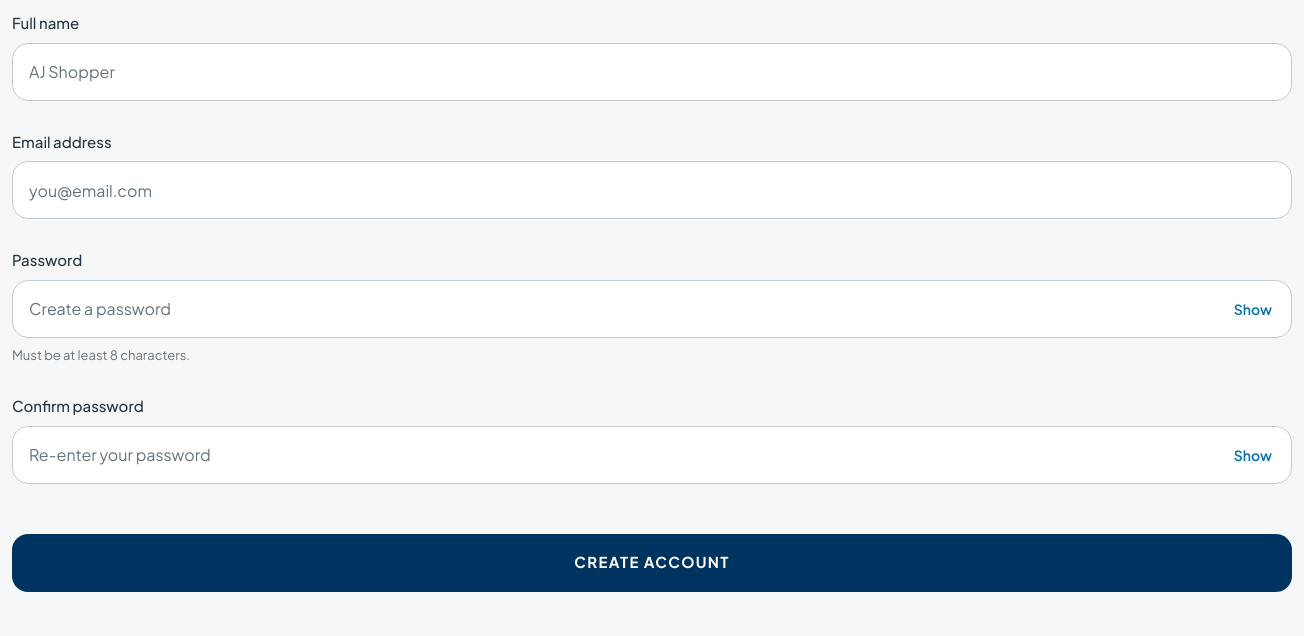
Test case: SignupForm — fields and validation › validates on blur rather than only on submit
In the field labelled "Email address": (652, 190) [12,161,1292,219], type "nope"
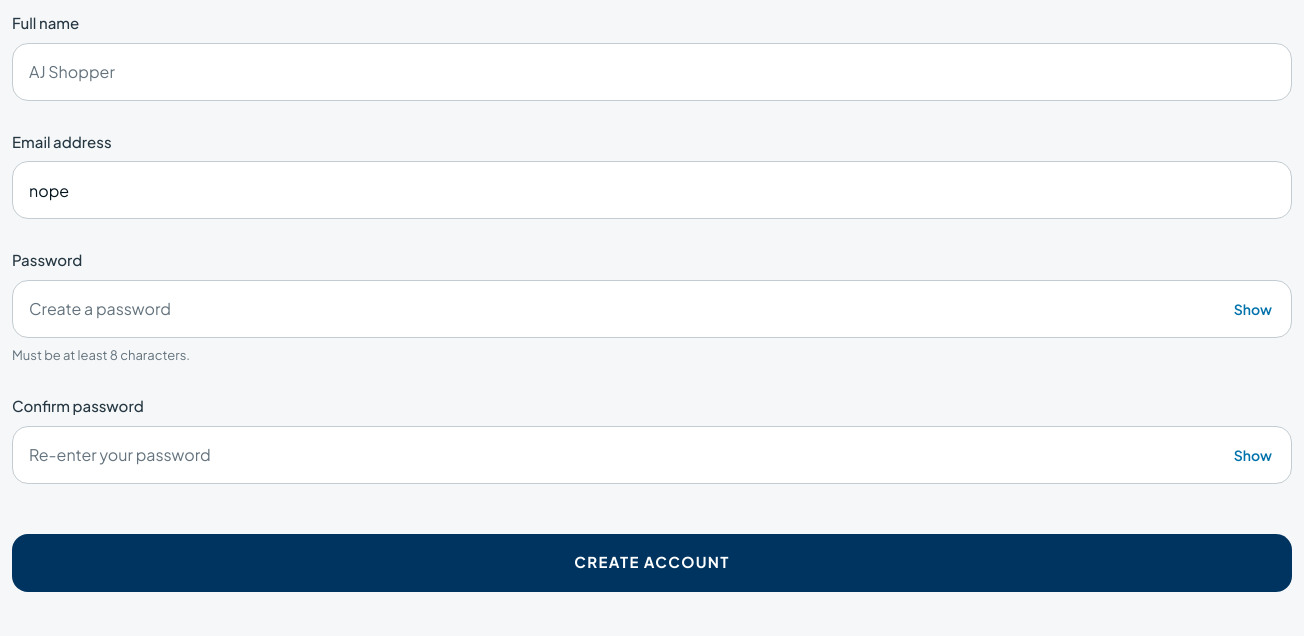
Leave the field labelled "Email address", box [12,161,1292,219]
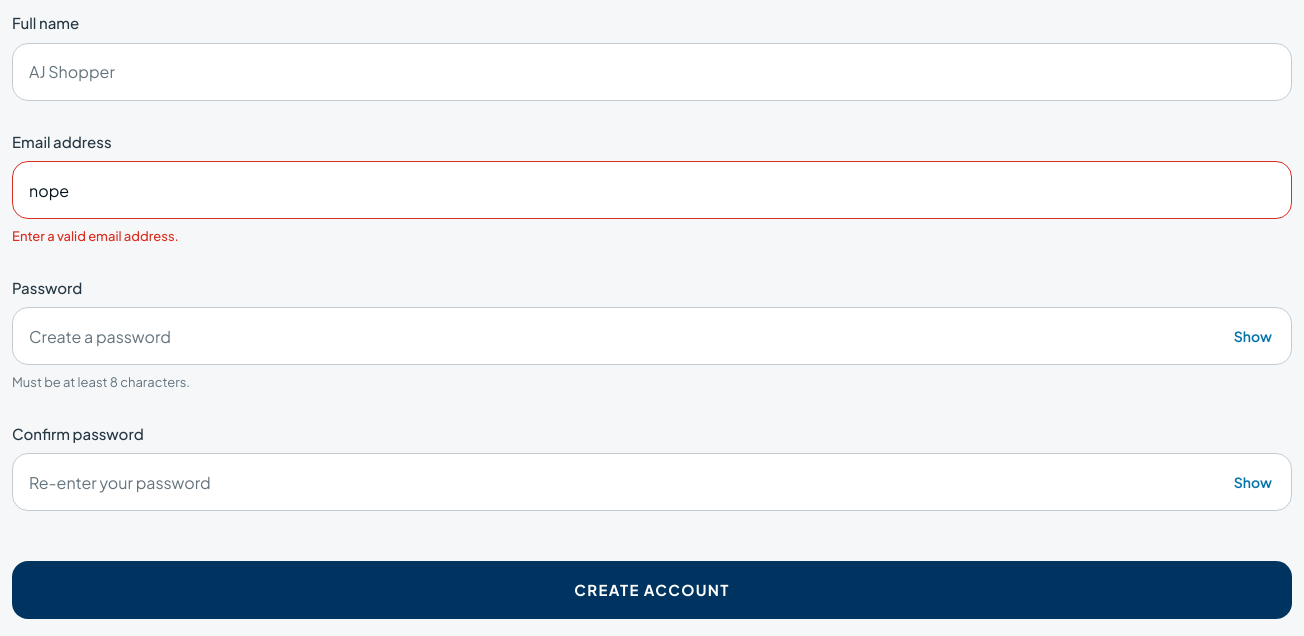
Expected: the text "Enter a valid email address." is shown, [12,228,179,244]
